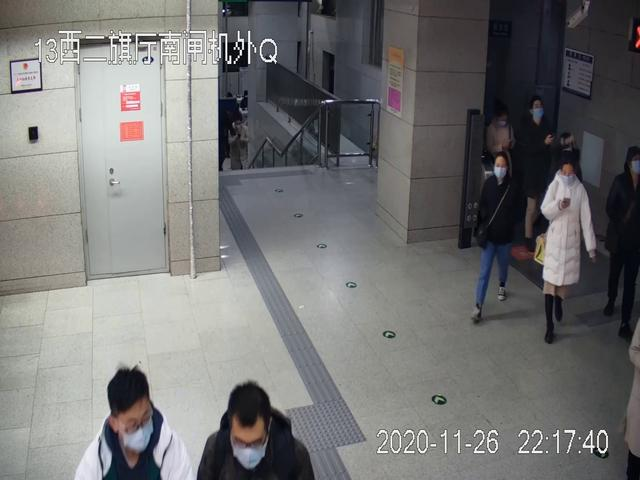person: (74, 363, 193, 480), (196, 381, 315, 480), (538, 160, 596, 345), (472, 151, 518, 323), (518, 95, 563, 251), (604, 146, 640, 339)
